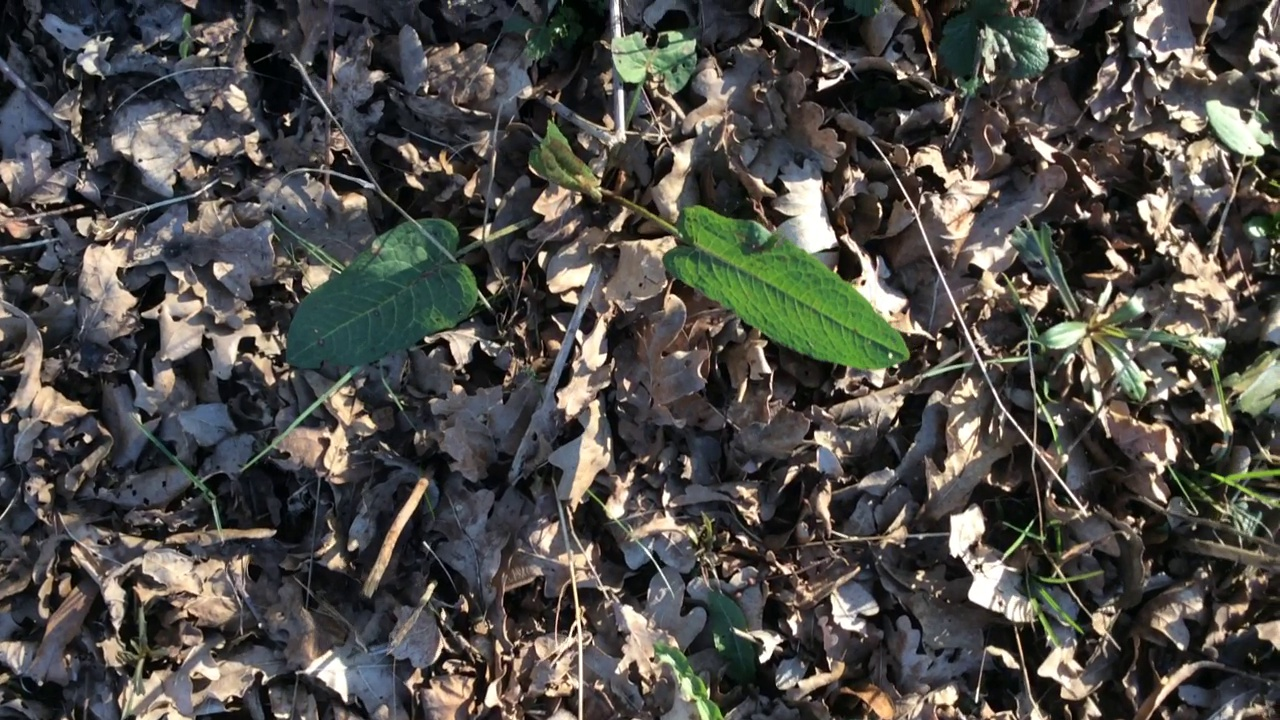rumex: (289, 28, 910, 370)
